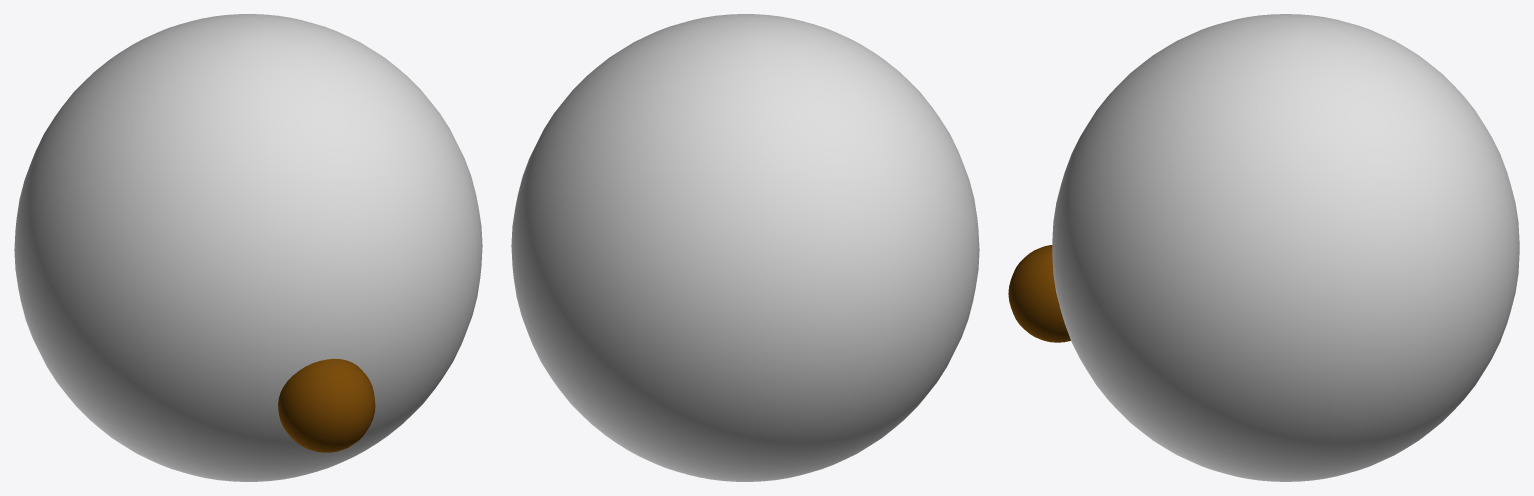
File: sphere animate.fbx
3 views of the same model, side by side, from view 1: azimuth 30°, elevation 25°; view 2: azimuth 150°, elevation 25°; view 3: azimuth 270°, elevation 25° (orthographic).
Parts seen in each view (by area): view 1: pSphere1, pSphere2; view 2: pSphere1; view 3: pSphere1, pSphere2.
Boxes of the visible parts, x1,y1,x2,y2 form: pSphere1: (14,14,482,481); pSphere2: (278,358,375,452); pSphere1: (511,14,979,481); pSphere1: (1052,14,1519,481); pSphere2: (1008,245,1070,342).
Bounding box in the file's own units: 4.09 × 4.09 × 4.47.
